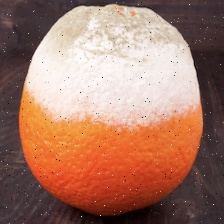orange: (26, 4, 171, 175)
